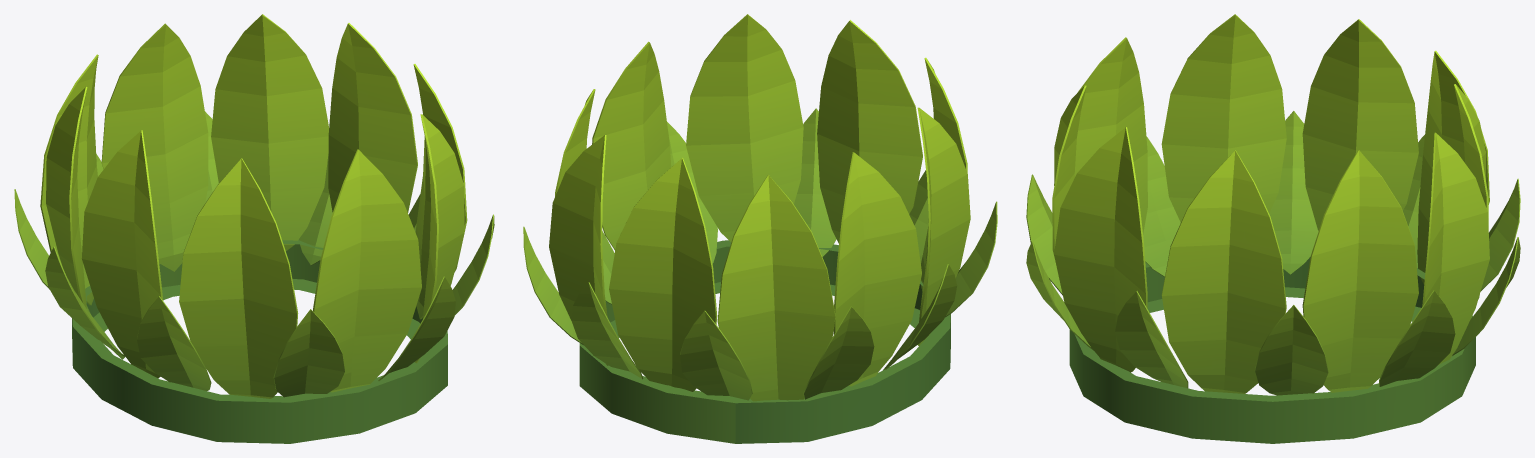
File: wp cap4c.fbx
The picture shows the model from 3 angles, left to right: view 1: azimuth 30°, elevation 25°; view 2: azimuth 150°, elevation 25°; view 3: azimuth 270°, elevation 25°; orthographic projection. The views are drawn at different scales.
Parts seen in each view (by area): view 1: wp_cap4c; view 2: wp_cap4c; view 3: wp_cap4c.
Part boxes in pixels (x1,y1,x2,y2): wp_cap4c: (14,14,494,443); wp_cap4c: (523,14,997,443); wp_cap4c: (1026,14,1520,443).
Bounding box in the file's own units: 74.57 × 50.51 × 79.96.
1 material, 1 textured.
